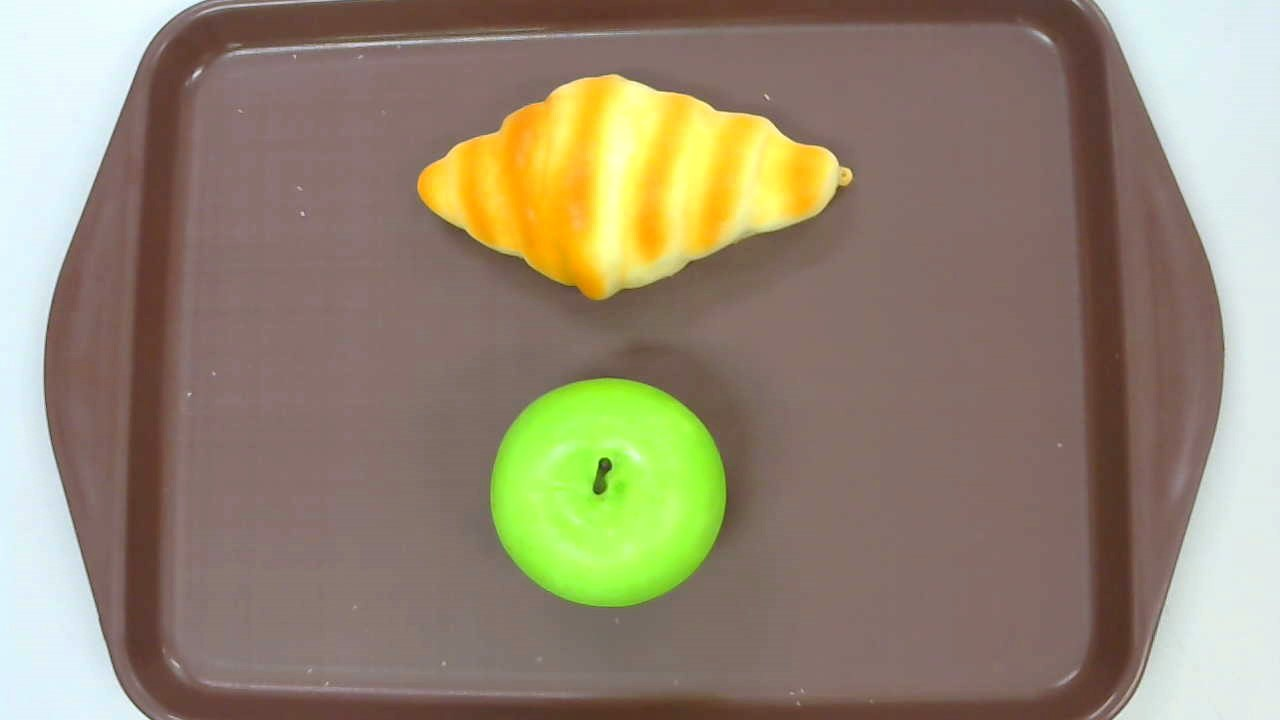croissant: (416, 74, 853, 303)
green apple: (490, 378, 727, 609)
